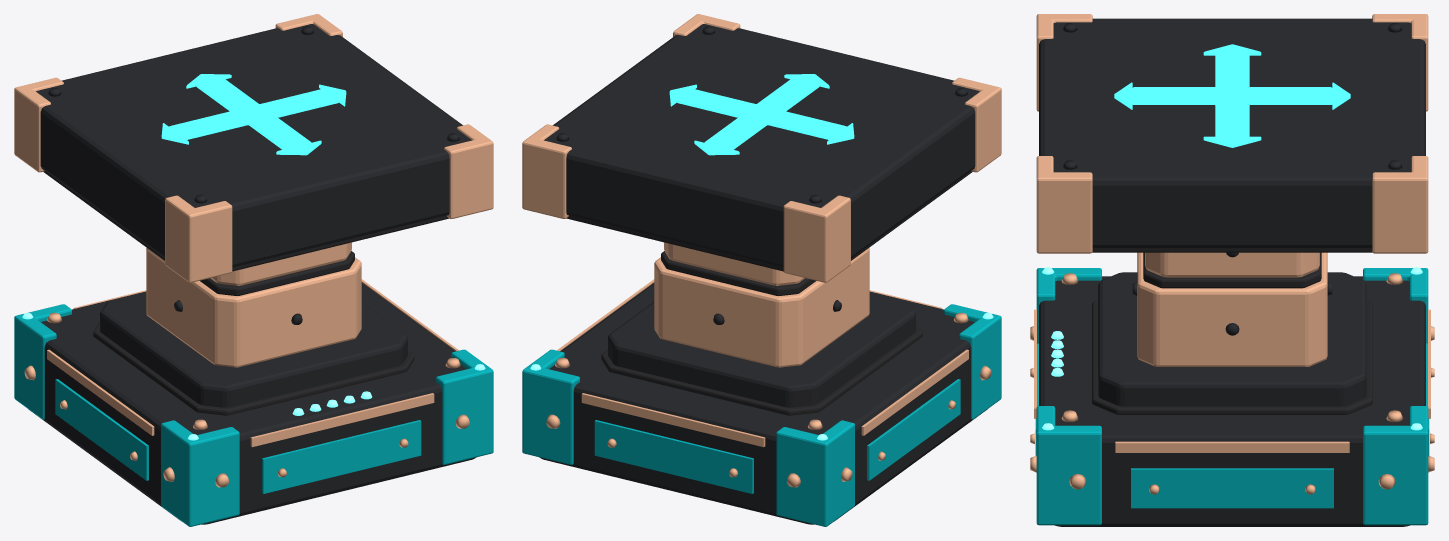
File: piston_5.glb
3 views of the same model, side by side, from view 1: azimuth 30°, elevation 25°; view 2: azimuth 150°, elevation 25°; view 3: azimuth 270°, elevation 25° (orthographic). The views are drawn at different scales.
Visible parts, largest first — view 1: Base, head; view 2: Base, head; view 3: Base, head.
Boxes of the visible parts, box(x1,y1,x2,y2) form: Base: box(14, 248, 493, 526); head: box(14, 14, 493, 285); Base: box(522, 248, 1001, 526); head: box(522, 14, 1001, 285); Base: box(1030, 252, 1434, 526); head: box(1036, 14, 1428, 277).
Size of the model in its own units: 0.259 by 0.2505 by 0.259.
